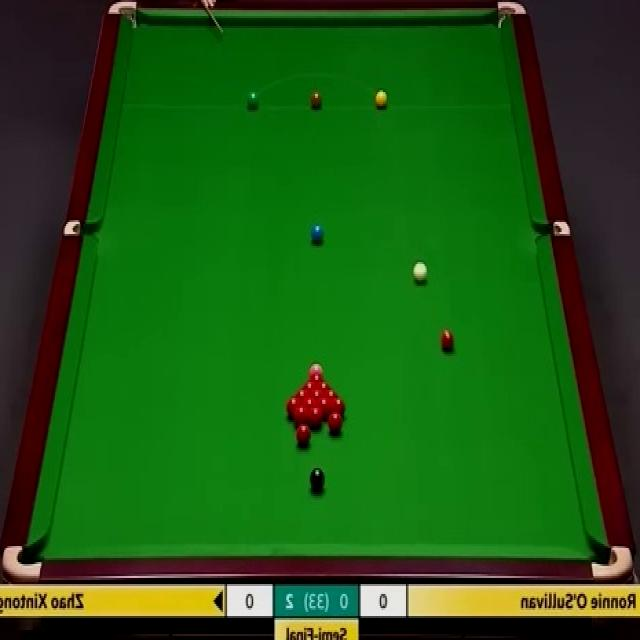black-ball: (308, 468, 326, 493)
blue-ball: (310, 222, 325, 245)
brown-ball: (310, 90, 323, 110)
green-ball: (247, 89, 260, 110)
pink-ball: (308, 361, 324, 376)
red-ball: (438, 327, 455, 355), (294, 425, 311, 448), (293, 406, 310, 427), (328, 412, 343, 432), (309, 407, 323, 428), (302, 398, 316, 418), (330, 396, 346, 413), (286, 398, 302, 414), (317, 398, 330, 416), (324, 388, 338, 399), (308, 389, 324, 398), (301, 381, 316, 390), (294, 390, 308, 399), (316, 381, 331, 389), (309, 373, 324, 381)
white-ball: (412, 261, 427, 284)
yellow-ball: (375, 90, 387, 110)
